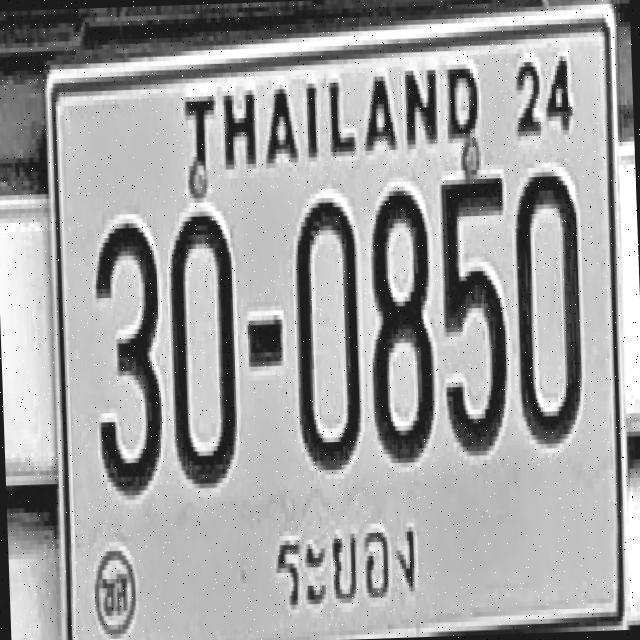0: (511, 168, 584, 447), (166, 208, 239, 487), (292, 198, 362, 470)
3: (91, 217, 164, 496)
5: (437, 166, 512, 454)
8: (366, 185, 434, 463)
Rayong: (263, 500, 433, 623)
